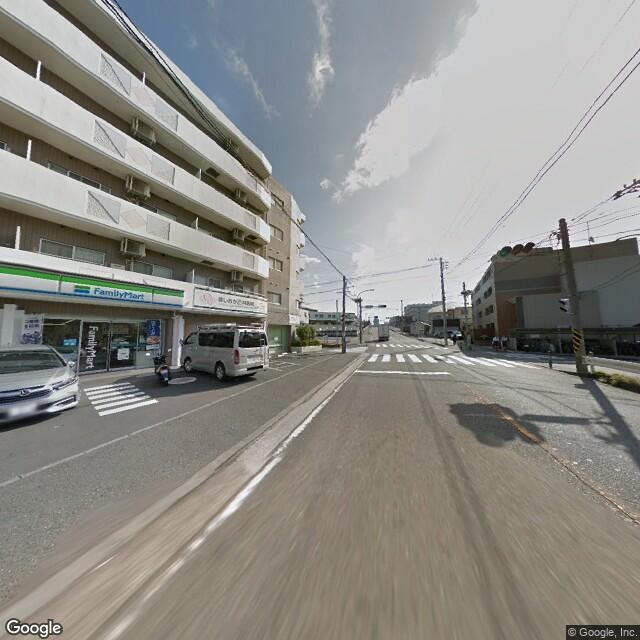family_mart: (1, 260, 185, 311), (92, 281, 151, 304), (81, 323, 98, 372)
